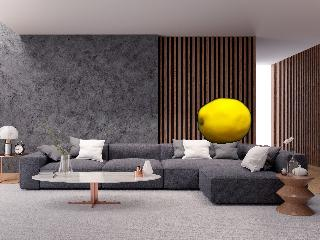lemon: (197, 99, 250, 143)
